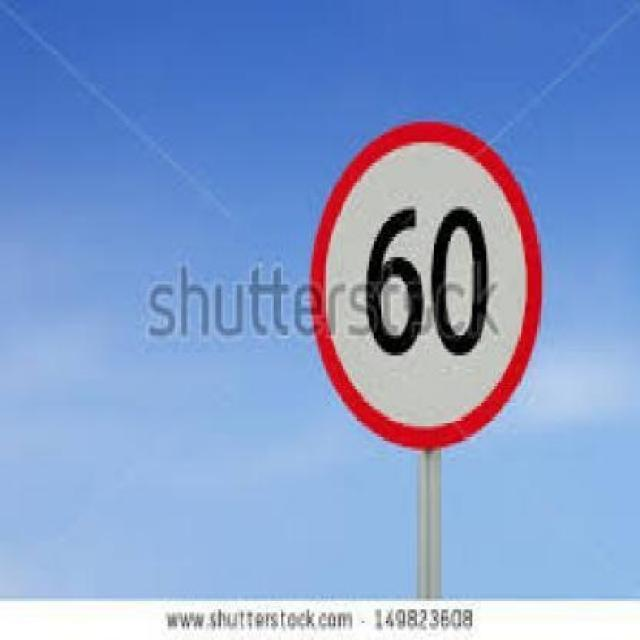forb_speed_over_60: (312, 123, 540, 448)
